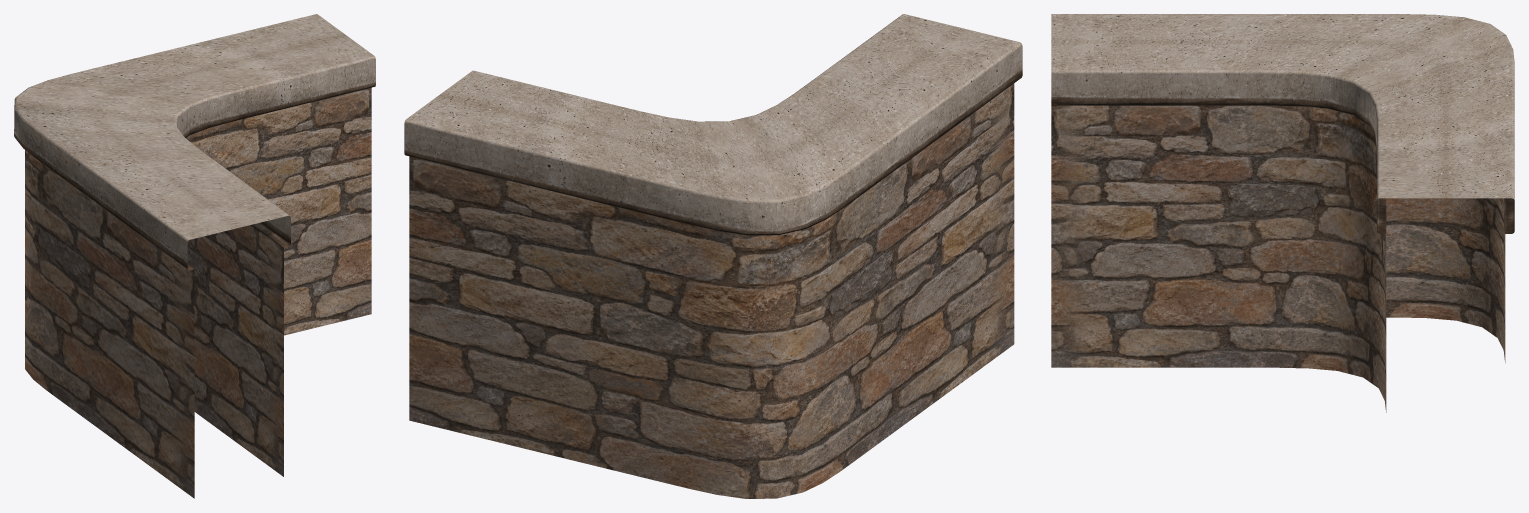
The model's file is SM_Fence_Round_001.fbx.
3 renders of one model, left to right at view 1: azimuth 30°, elevation 25°; view 2: azimuth 150°, elevation 25°; view 3: azimuth 270°, elevation 25°, orthographic. The views are drawn at different scales.
Parts seen in each view (by area): view 1: SM_Update_Fence_Round_001_v001; view 2: SM_Update_Fence_Round_001_v001; view 3: SM_Update_Fence_Round_001_v001.
Part boxes in pixels (<box>): SM_Update_Fence_Round_001_v001: <box>14,14,375,498</box>; SM_Update_Fence_Round_001_v001: <box>404,14,1022,498</box>; SM_Update_Fence_Round_001_v001: <box>1051,14,1514,412</box>.
Size of the model in its own units: 1.31 by 0.9934 by 1.39.
Materials: 1 (1 with a texture image).
